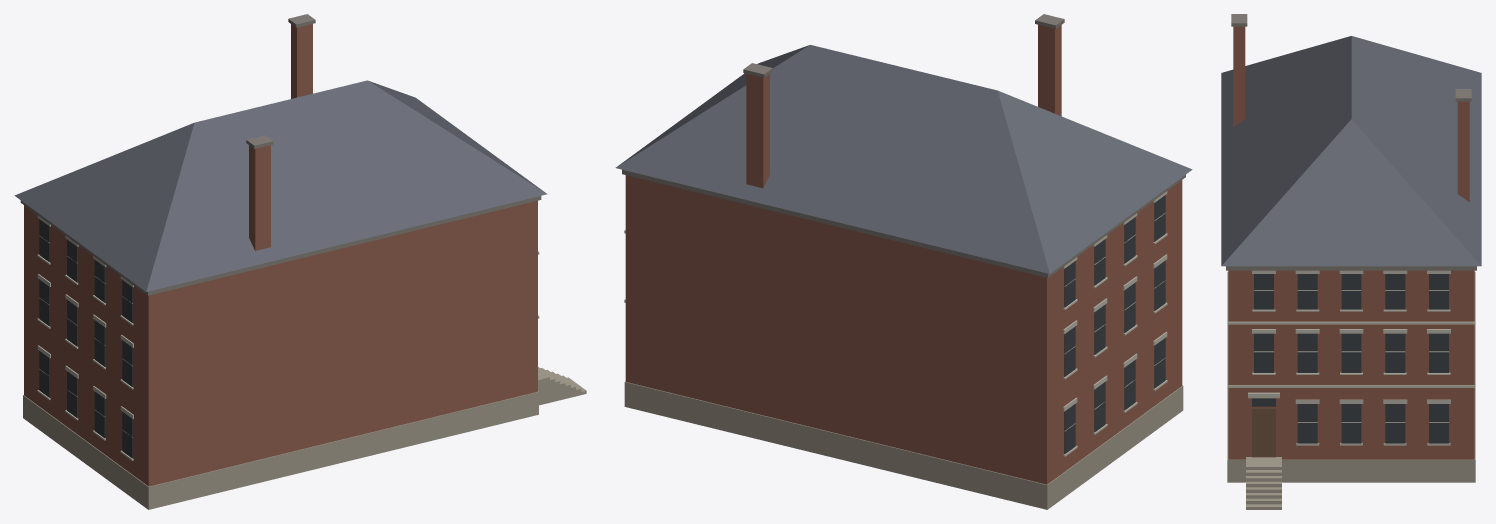
Rendered from house_1601_indiana__draft_1904.glb.
The picture shows the model from 3 angles, left to right: view 1: azimuth 30°, elevation 25°; view 2: azimuth 150°, elevation 25°; view 3: azimuth 270°, elevation 25°; orthographic projection. The views are drawn at different scales.
Visible parts, largest first — view 1: house_1601_indiana__draft_1904; view 2: house_1601_indiana__draft_1904; view 3: house_1601_indiana__draft_1904.
Boxes of the visible parts, x1,y1,x2,y2 form: house_1601_indiana__draft_1904: (14, 14, 586, 509); house_1601_indiana__draft_1904: (615, 14, 1192, 509); house_1601_indiana__draft_1904: (1221, 14, 1481, 509).
Bounding box in the file's own units: 25.9 × 18.38 × 13.06.
